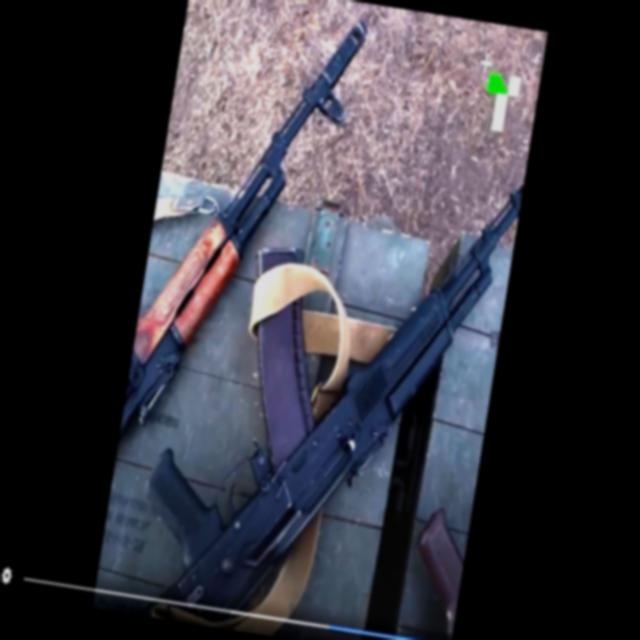ak: (123, 118, 527, 640)
